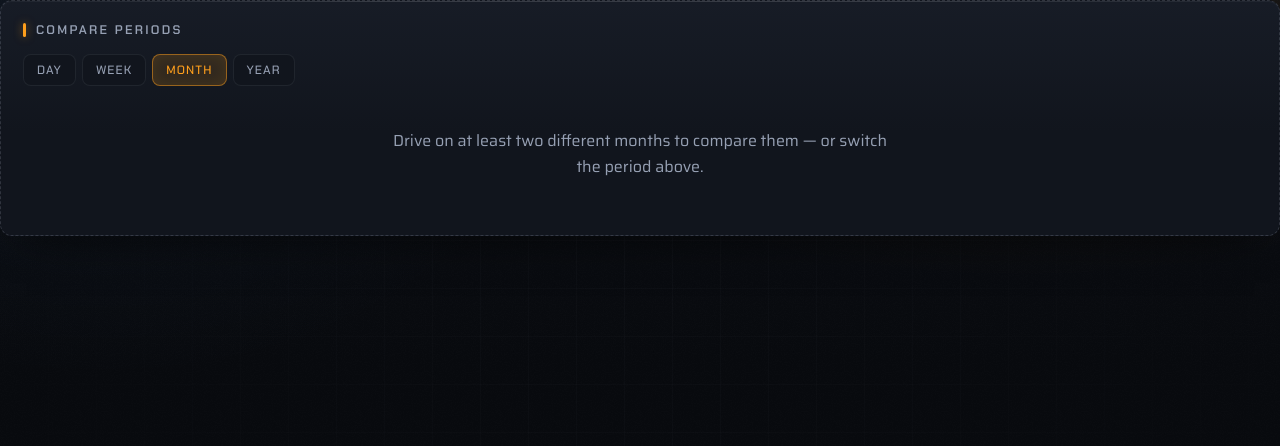
Scenario: PeriodCompare › compares the two most recent periods by default (day granularity)
This screenshot has width=1280, height=446.
Click the button "day": (49, 70) 23,54 -> 76,86
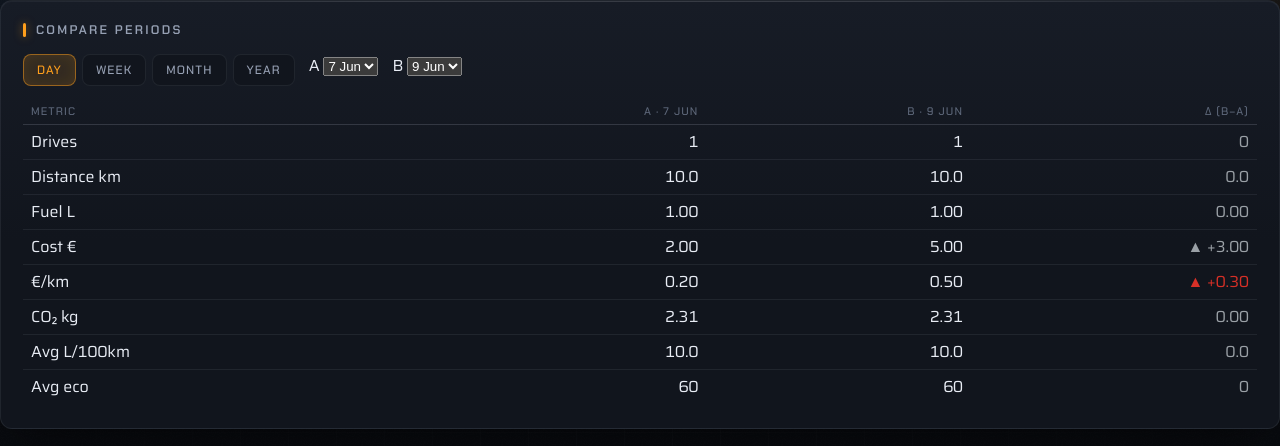
Now the dropdown named "period A" is shown, box 323,57 -> 378,76
Now the dropdown named "period B" is shown, box 407,57 -> 462,76
Now the text "▲ +3.00" is shown, box 971,230 -> 1257,265
